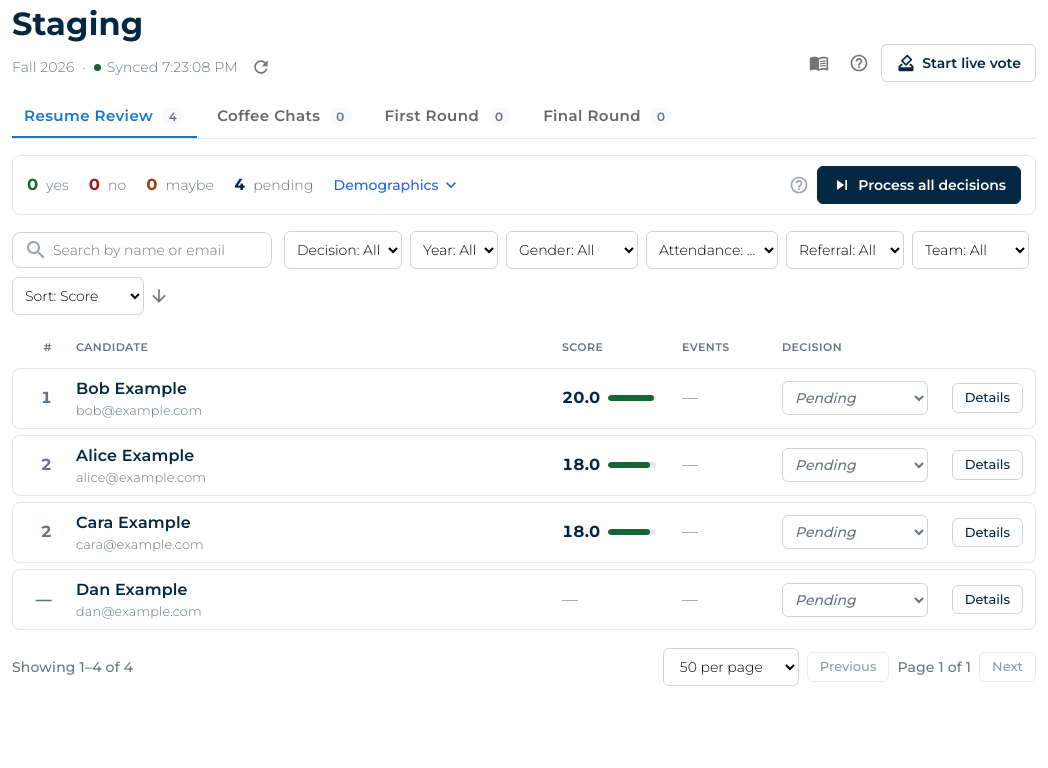
Test: Staging table › puts the decision back and says so when the save fails
Expected: the text "Alice Example" is shown, 76,444 -> 206,468
Select "No" in the dropdown named "Decision for Alice Example": (855, 465) 782,448 -> 928,482
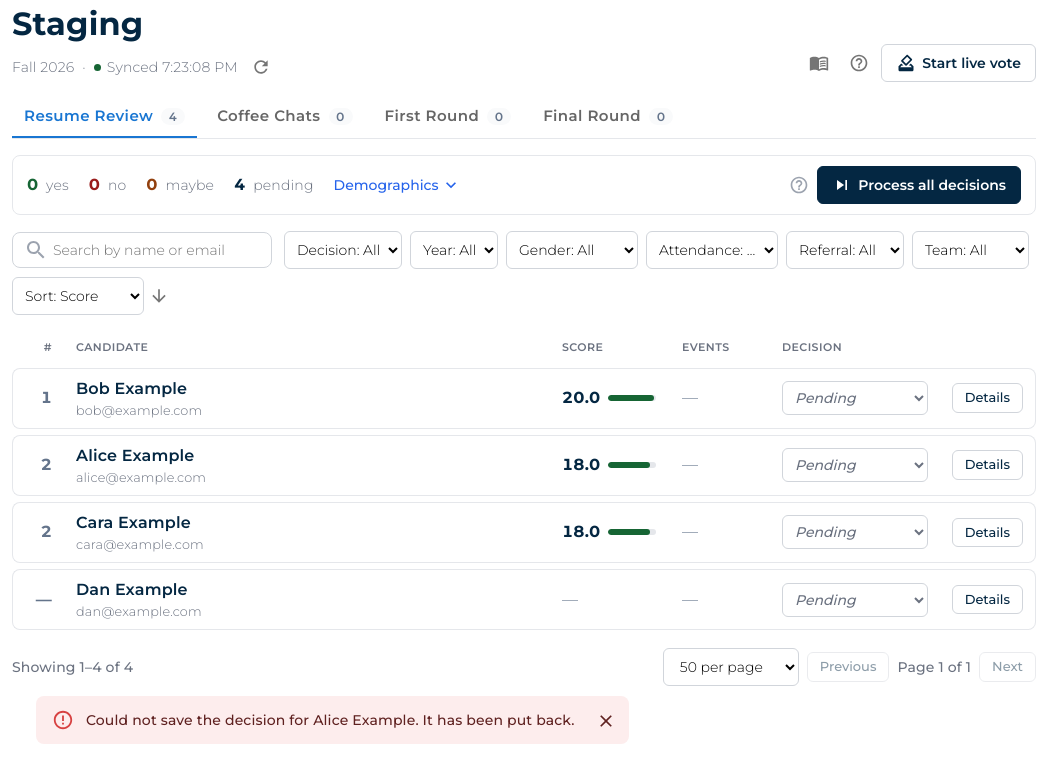
Now the text "Could not save the decision for Alice Example" is shown, box 86,711 -> 575,729
